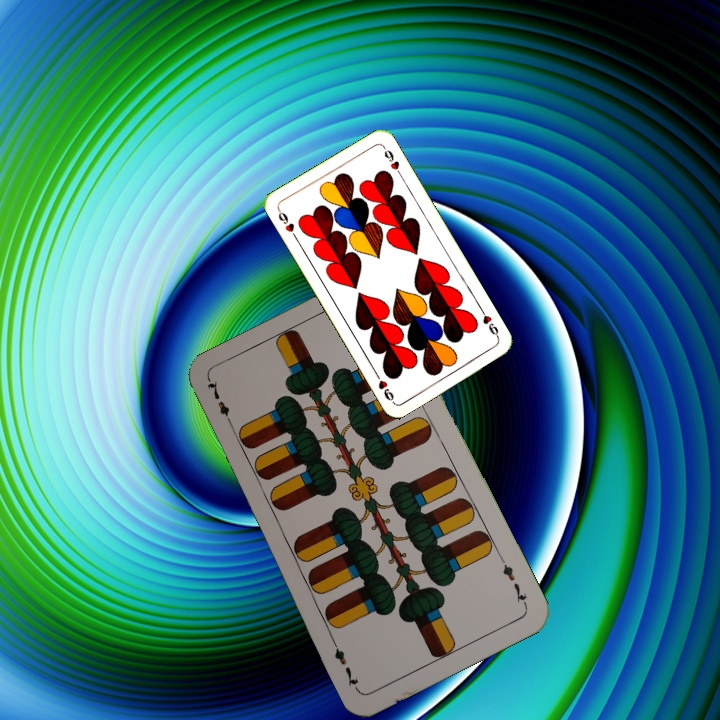E7: (202, 377, 237, 431), (496, 554, 530, 609)
H9: (274, 205, 300, 242), (476, 304, 502, 341)
